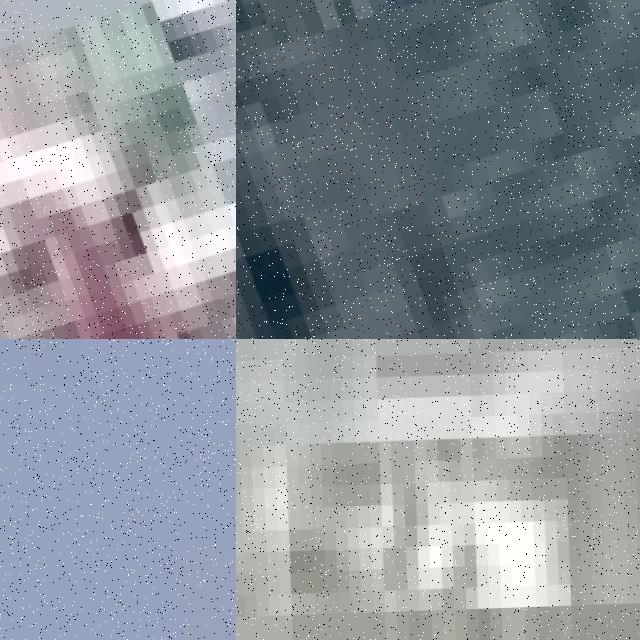0: (0, 0, 236, 339)
drone: (236, 0, 640, 339)
